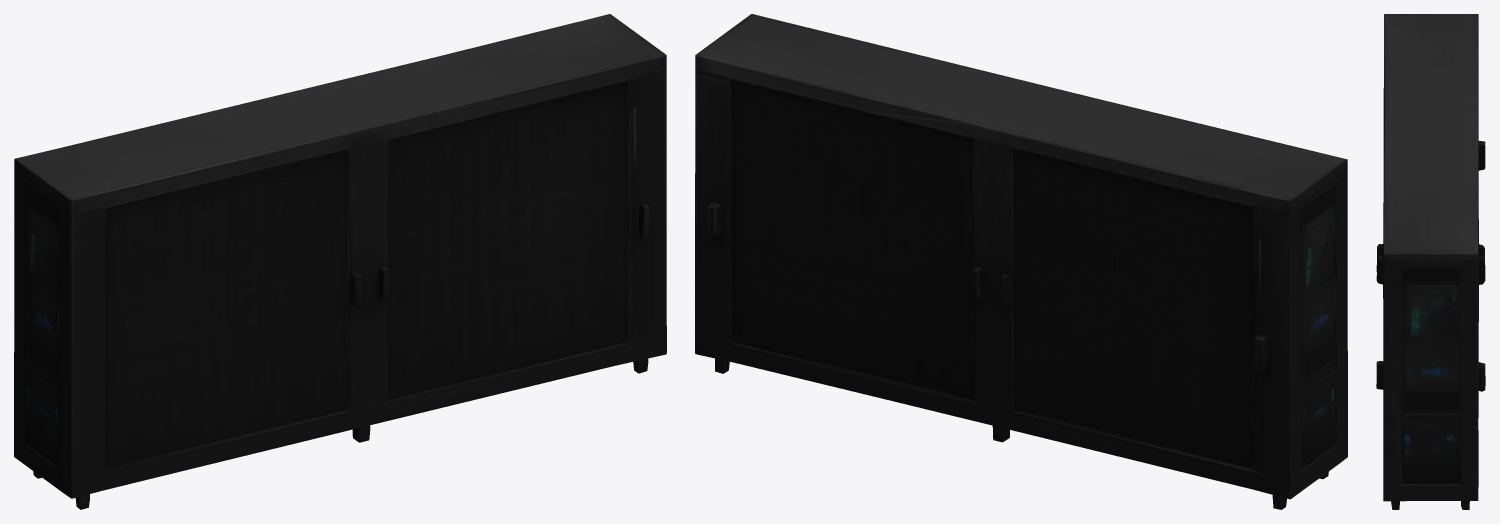
File: door-metal.glb
The picture shows the model from 3 angles, left to right: view 1: azimuth 30°, elevation 25°; view 2: azimuth 150°, elevation 25°; view 3: azimuth 270°, elevation 25°; orthographic projection. The views are drawn at different scales.
Parts seen in each view (by area): view 1: geometry_0; view 2: geometry_0; view 3: geometry_0.
Part boxes in pixels (x1,y1,x2,y2): geometry_0: [14, 14, 666, 509]; geometry_0: [695, 14, 1347, 509]; geometry_0: [1376, 14, 1485, 509].
Size of the model in its own units: 1 by 0.5082 by 0.1915.
1 material, 1 textured.
